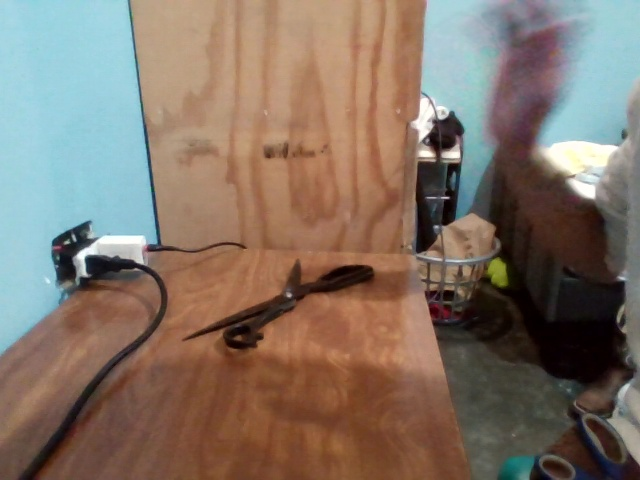tijeras: (180, 257, 377, 354)
